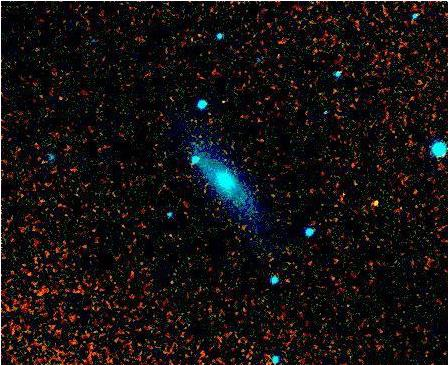star: (363, 189, 393, 219)
